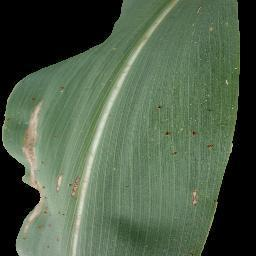Corn_Common_Rust: (17, 91, 49, 236), (53, 163, 91, 207), (191, 8, 243, 40), (215, 178, 249, 216), (174, 184, 209, 220), (216, 56, 246, 95), (49, 80, 76, 113), (26, 239, 66, 256), (205, 97, 226, 125), (3, 107, 23, 130), (52, 203, 71, 226), (182, 242, 212, 256), (226, 104, 237, 142), (190, 117, 202, 150), (208, 143, 229, 161), (154, 91, 167, 120), (163, 128, 180, 150), (125, 36, 157, 45)
